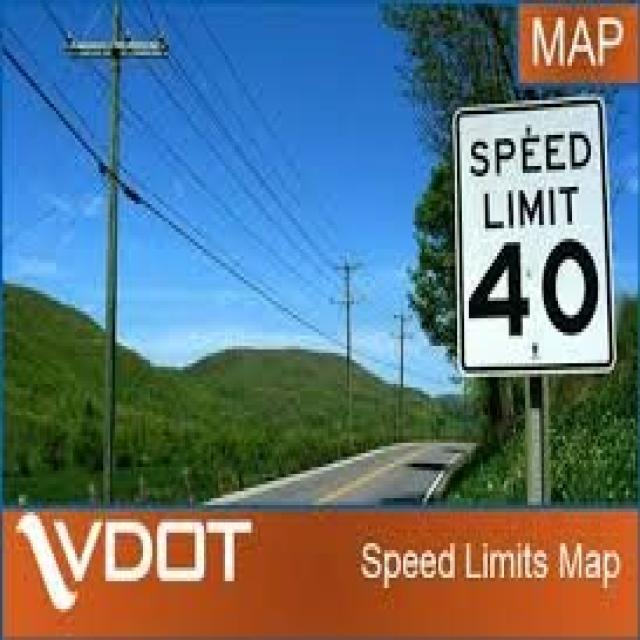speedLimit40: (448, 102, 614, 376)
